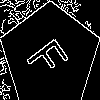F: (25, 30, 77, 82)
